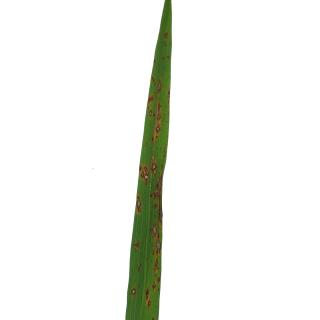Blast: (149, 172, 168, 199), (140, 163, 150, 180), (158, 103, 162, 138), (156, 235, 161, 257), (149, 159, 157, 172), (154, 256, 160, 273), (152, 220, 158, 237), (130, 286, 138, 298), (156, 80, 163, 91), (159, 202, 162, 226), (148, 109, 154, 119), (144, 288, 150, 296), (139, 262, 143, 274), (148, 298, 152, 308), (152, 282, 156, 290), (154, 202, 158, 210), (164, 32, 168, 39), (151, 95, 154, 104)
